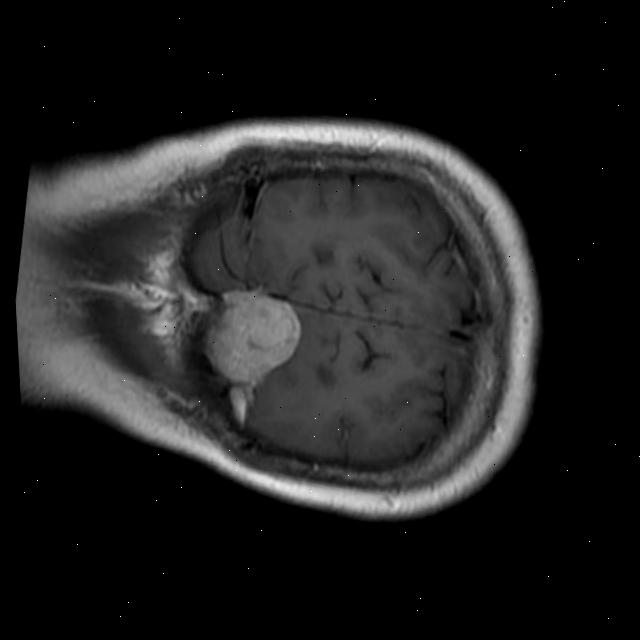Meningioma: (196, 281, 311, 393)
